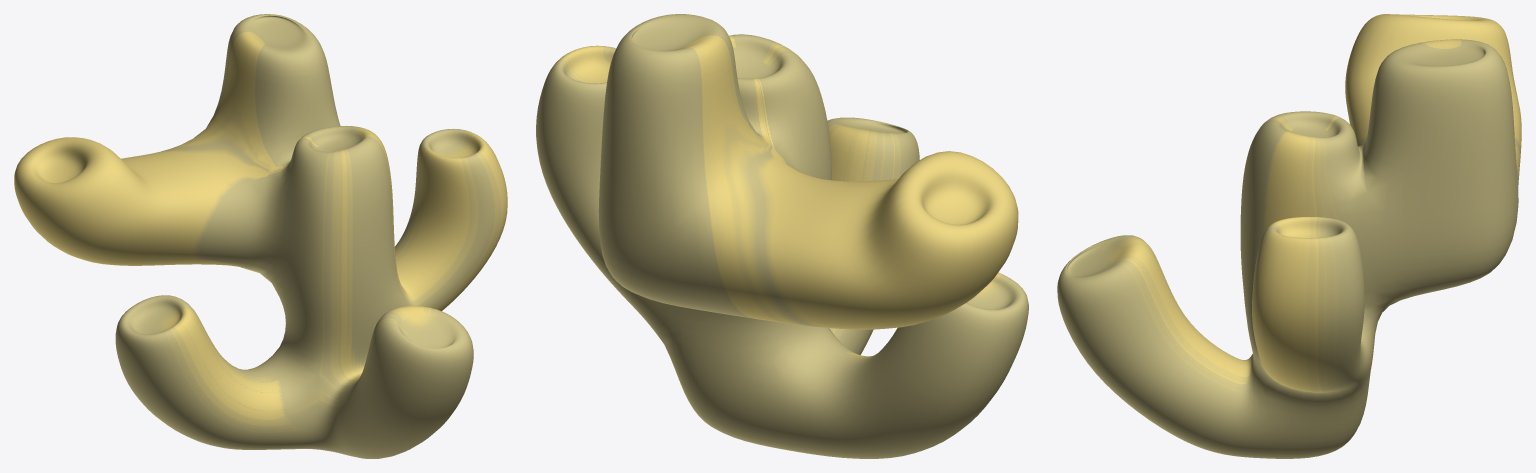
The model's file is coral3.glb.
3 views of the same model, side by side, from view 1: azimuth 30°, elevation 25°; view 2: azimuth 150°, elevation 25°; view 3: azimuth 270°, elevation 25° (orthographic). The views are drawn at different scales.
Parts seen in each view (by area): view 1: Cube; view 2: Cube; view 3: Cube.
Part boxes in pixels (x1,y1,x2,y2): Cube: (14, 14, 507, 458); Cube: (536, 14, 1028, 458); Cube: (1057, 14, 1521, 458).
Size of the model in its own units: 9.91 by 8.23 by 8.58.
Materials: 1 (1 with a texture image).
